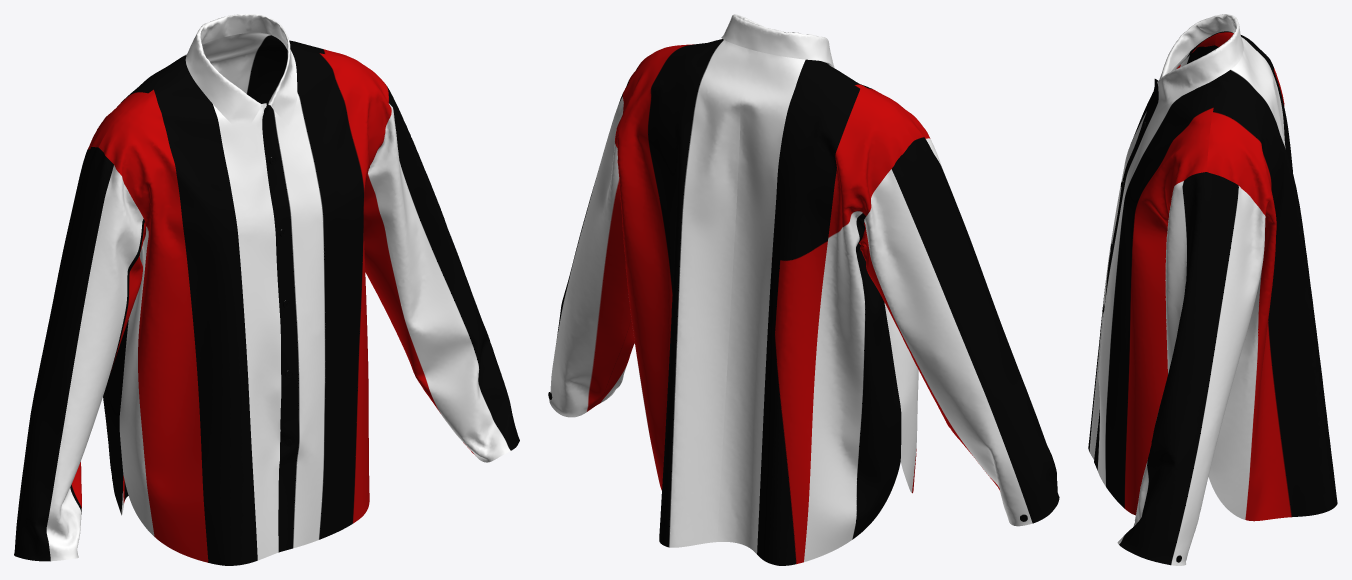
3 renders of one model, left to right at view 1: azimuth 30°, elevation 25°; view 2: azimuth 150°, elevation 25°; view 3: azimuth 270°, elevation 25°, orthographic. The views are drawn at different scales.
Visible parts, largest first — view 1: Cloth; view 2: Cloth; view 3: Cloth.
Part boxes in pixels (bbox=[...]): Cloth: bbox=[14, 14, 519, 565]; Cloth: bbox=[549, 14, 1059, 565]; Cloth: bbox=[1088, 14, 1337, 565].
Bounding box in the file's own units: 0.8405 × 0.799 × 0.3886.
Materials: 17 (17 with a texture image).
